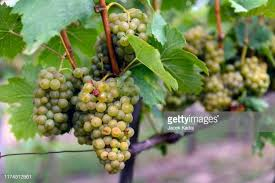grapes: (77, 82, 138, 175), (91, 12, 161, 79), (29, 67, 71, 136)
